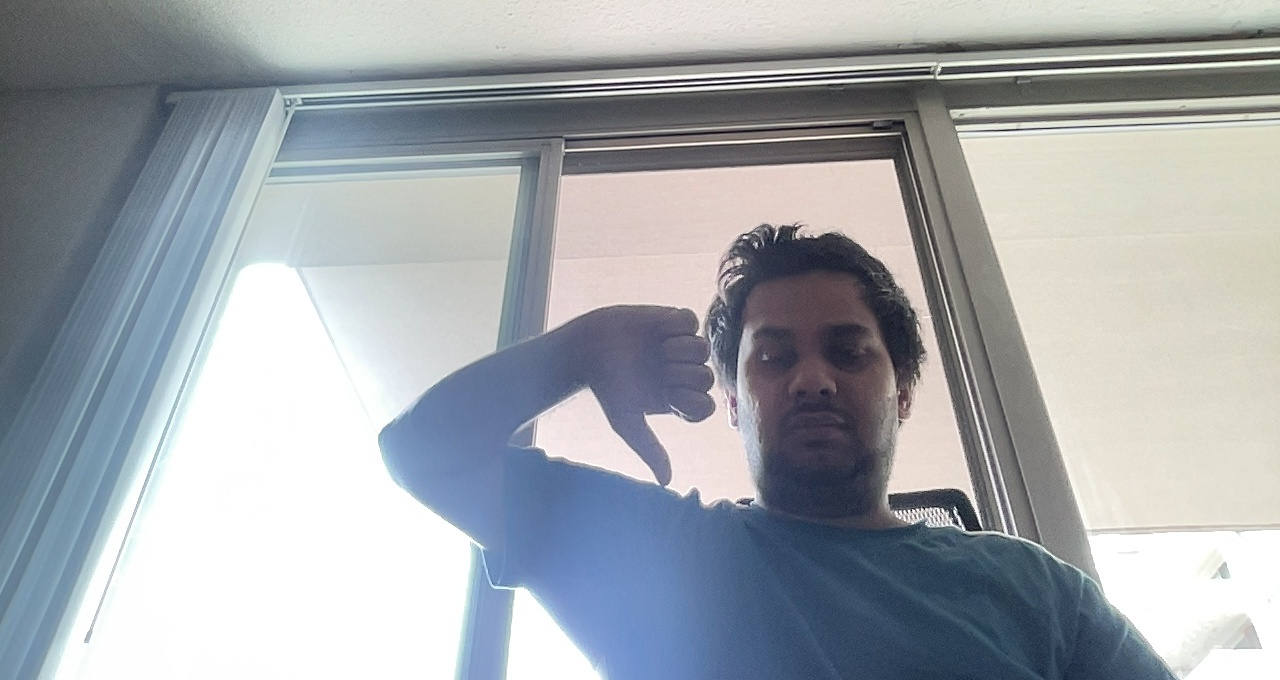thumbsdown: (566, 297, 721, 485)
